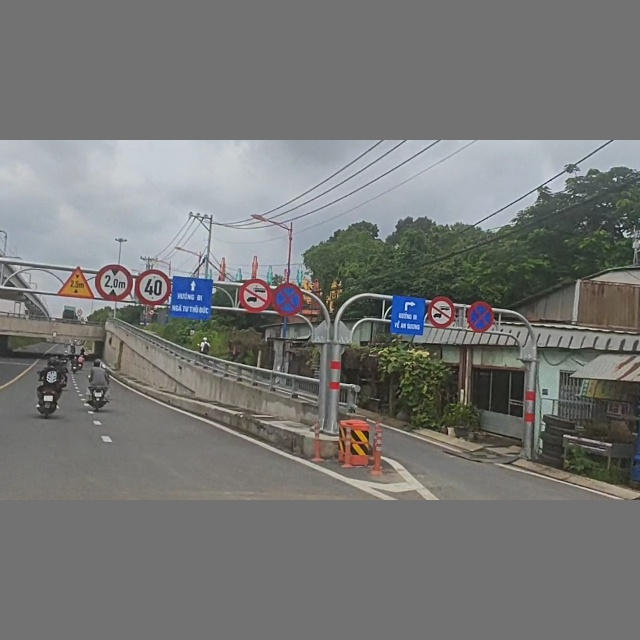P.107: (241, 279, 273, 312), (424, 297, 457, 328)
P.117*: (95, 260, 134, 303)
P.127*40: (135, 269, 173, 305)
P.130: (273, 283, 304, 317), (467, 301, 496, 333)
W.239b*: (57, 267, 95, 300)
